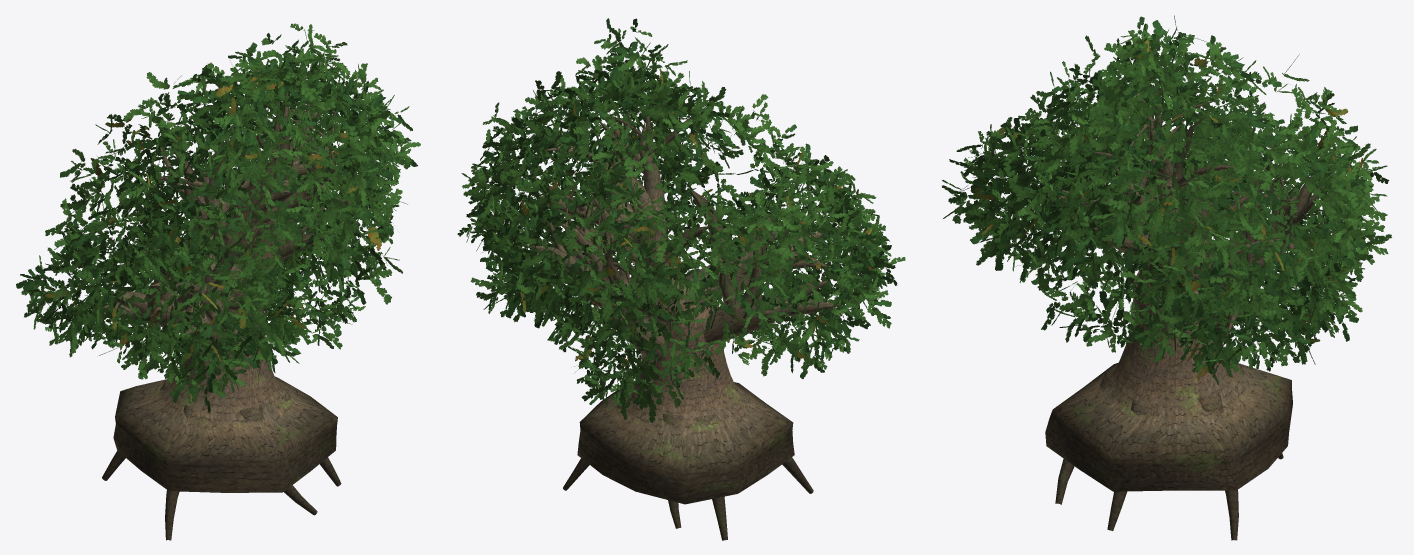
Rendered from hero-oak-b-near.glb.
3 views of the same model, side by side, from view 1: azimuth 30°, elevation 25°; view 2: azimuth 150°, elevation 25°; view 3: azimuth 270°, elevation 25° (orthographic). The views are drawn at different scales.
Visible parts, largest first — view 1: Foliage, Wood; view 2: Foliage, Wood; view 3: Foliage, Wood.
Boxes of the visible parts, bbox=[...] form: Foliage: bbox=[16, 23, 420, 412]; Wood: bbox=[102, 92, 350, 540]; Foliage: bbox=[457, 18, 905, 422]; Wood: bbox=[530, 107, 839, 540]; Foliage: bbox=[942, 15, 1391, 384]; Wood: bbox=[1028, 88, 1330, 540].
Bounding box in the file's own units: 19.1 × 22.32 × 18.09.
Materials: 2 (2 with a texture image).
